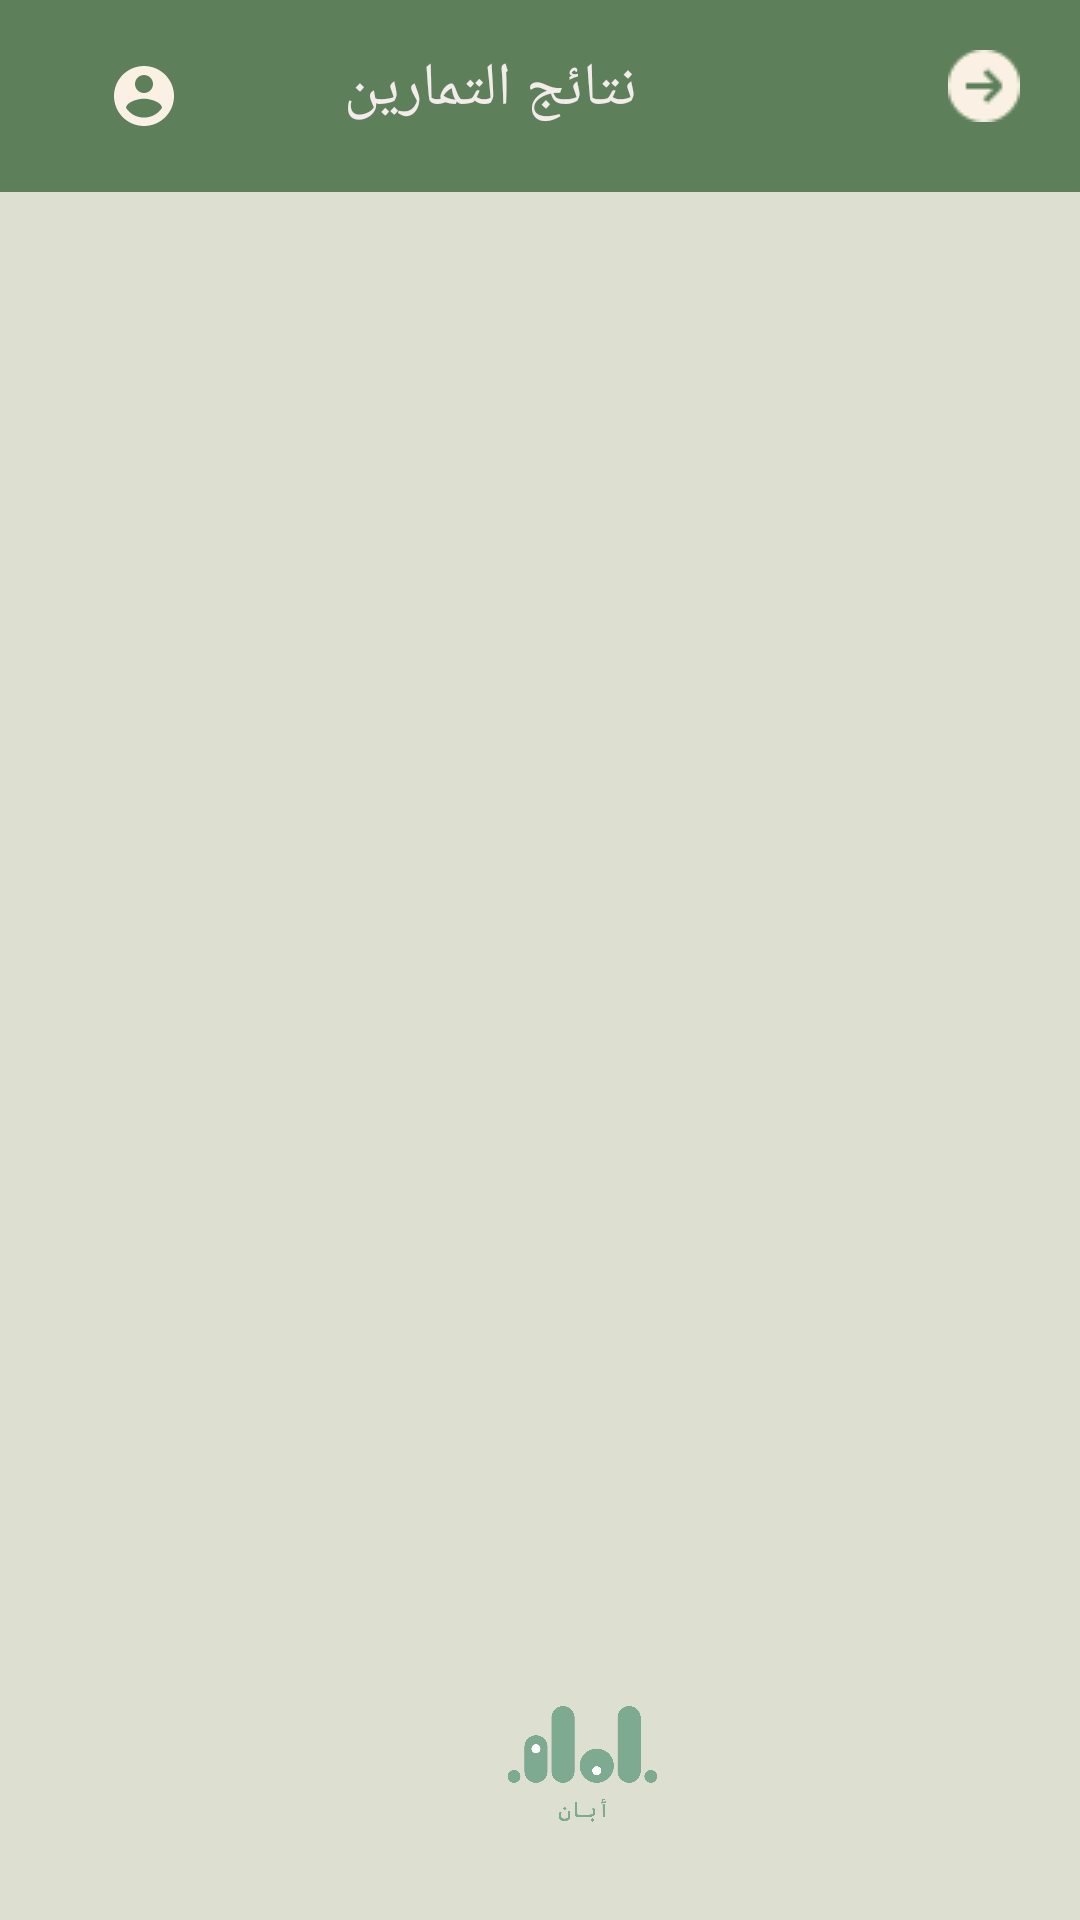

Where icons sit on this 1080px x 1920px app screen, as region(x1, y1, x2, y2):
account: region(114, 66, 174, 126)
arrow: region(948, 50, 1020, 122)
